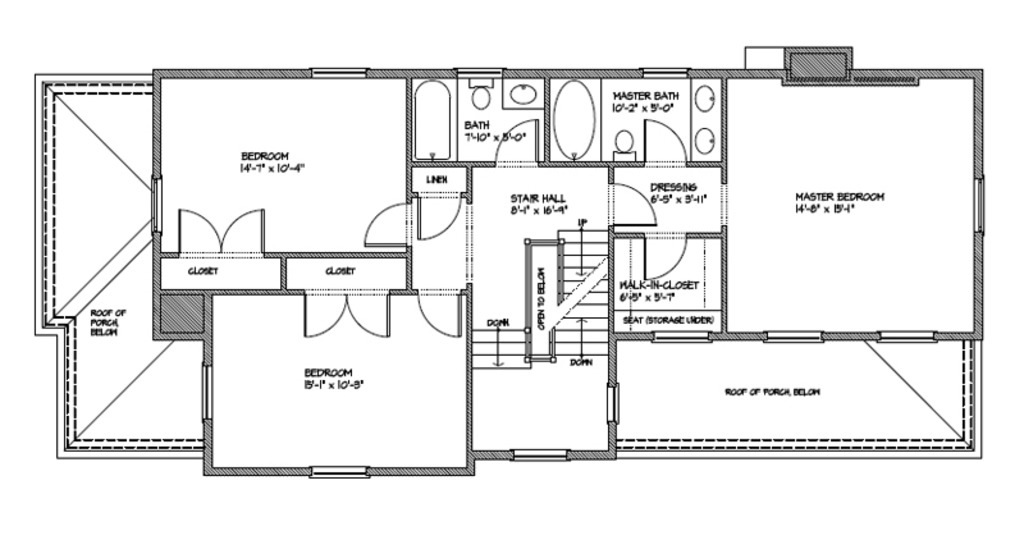door: (176, 208, 267, 259), (301, 291, 390, 340), (608, 182, 664, 233), (487, 116, 540, 168), (408, 290, 462, 340), (360, 201, 408, 246), (413, 196, 463, 239), (641, 237, 686, 282), (646, 120, 686, 168)
large_sink: (464, 78, 497, 114), (609, 122, 638, 160)
small_sink: (688, 80, 723, 166), (501, 79, 546, 112)
stairs: (473, 218, 610, 376)
tub: (546, 76, 603, 161), (408, 78, 459, 165)
windows: (508, 445, 570, 467), (148, 172, 167, 241), (636, 63, 693, 86), (308, 461, 369, 482), (307, 65, 369, 84), (757, 329, 825, 345), (650, 331, 718, 347), (200, 363, 216, 426), (880, 329, 937, 346), (606, 379, 623, 429), (976, 176, 988, 237)
